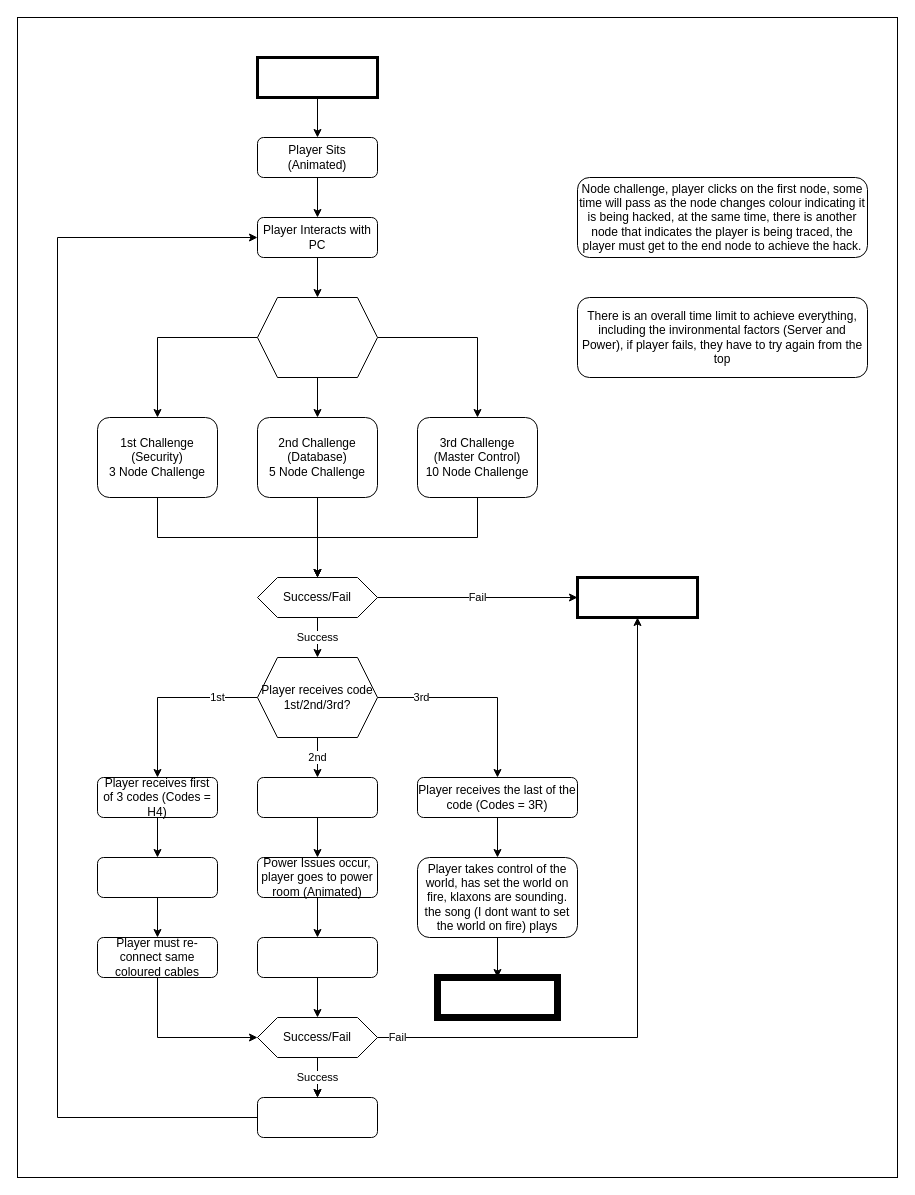
This 915x1195 diagram has some shape labels left out. The shapes that lost their labels are listed below. From the top down, each one's centre as x and y in pixels, then its label:
At (x=317, y=77): "Start".
At (x=317, y=337): "What is the challenge? (1st/2nd/3rd)".
At (x=637, y=597): "Player is Caught (Game Over)".
At (x=317, y=797): "Player receives second of 3 codes (Codes = CK)".
At (x=157, y=877): "Server Issues occur, player goes to server room (Animated)".
At (x=317, y=957): "Player must toggle the proper switches".
At (x=497, y=997): "End".
At (x=317, y=1117): "Player returns to PC for next challenge".
